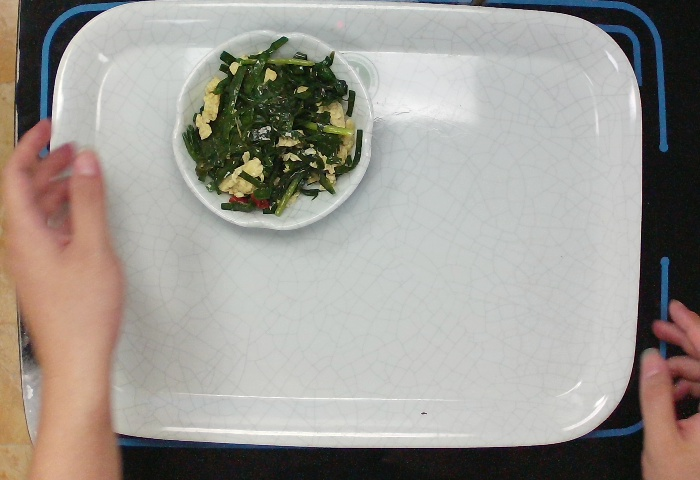JYsf-Ao_Yuan_Wan: (159, 28, 377, 239)
